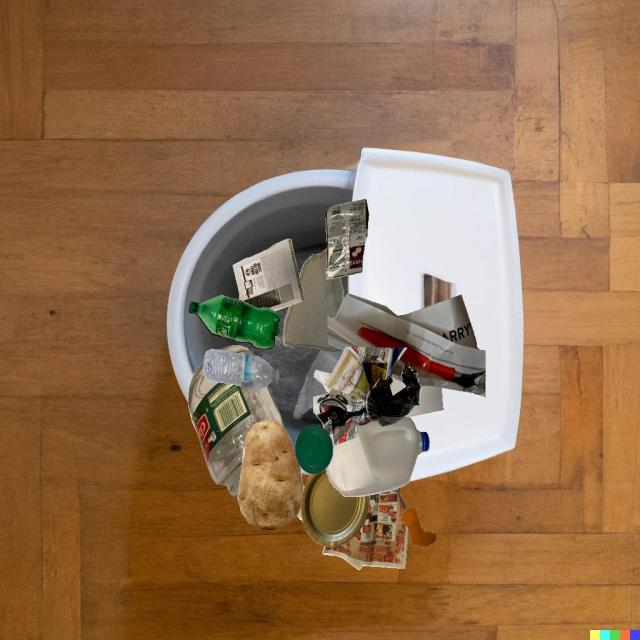biowaste: (237, 420, 303, 530), (398, 506, 436, 546)
cardboard: (283, 249, 344, 352)
glass: (188, 362, 284, 497)
paper: (328, 293, 485, 397), (313, 347, 408, 446), (323, 489, 409, 570), (301, 468, 370, 547), (233, 239, 304, 311), (302, 484, 380, 521), (403, 386, 443, 417)
plastic: (326, 417, 430, 496), (189, 295, 280, 349), (366, 362, 421, 427), (325, 199, 369, 279), (203, 349, 279, 389), (295, 425, 333, 474)
